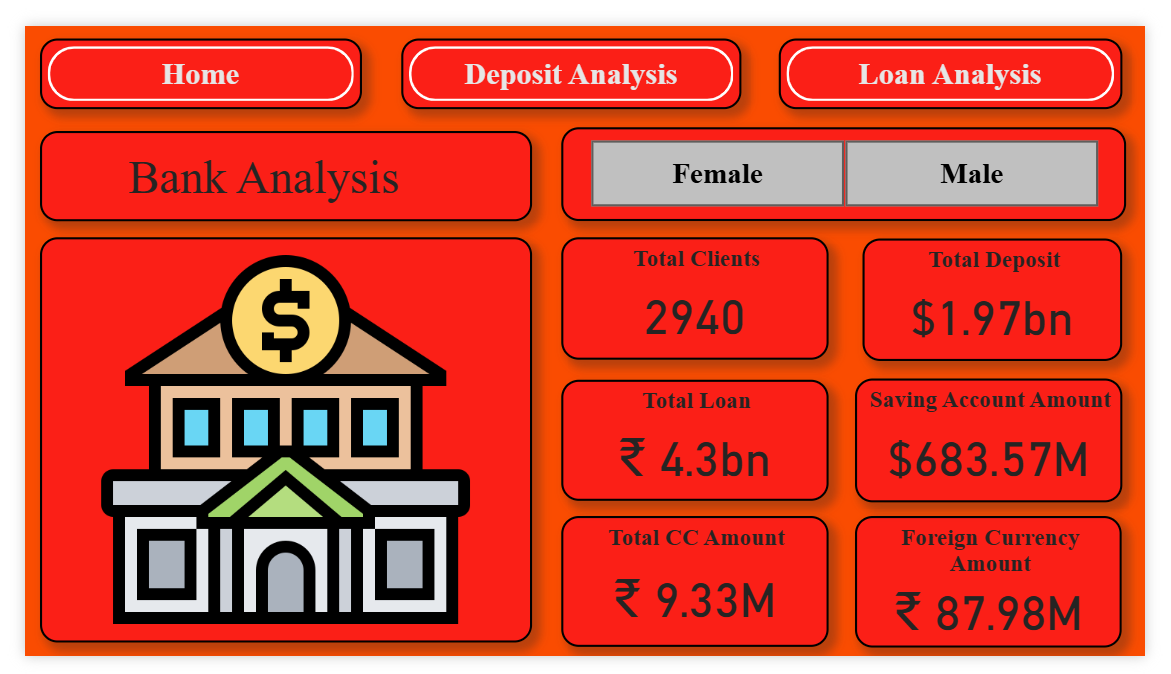

What the dashboard file says about the page in this screenshot:
{"tool":"powerbi","page":{"name":"Home","canvas":[1280,720],"ordinal":0},"visuals":[{"type":"textbox","title":"Bank ","box":[17,120.1,562.4,103.2],"z":0},{"type":"actionButton","title":"Home ","box":[17.2,14.7,368.1,81],"z":1000},{"type":"actionButton","title":"Home ","box":[861.4,14.7,392.6,81],"z":2000},{"type":"actionButton","title":"Home ","box":[429.5,14.7,389,81],"z":3000},{"type":"card","title":"Saving Account Amount","fields":{"Values":["Sum(Clients - Banking.Saving Accounts)"]},"box":[948.2,402.7,305.2,141.3],"z":5000},{"type":"card","title":"Total Deposit","fields":{"Values":["Sum(Clients - Banking.Bank Deposits)"]},"box":[956.7,243.1,296.8,139.9],"z":6000},{"type":"card","title":"Total Loan ","fields":{"Values":["Clients - Banking.Total Loan"]},"box":[613.3,404.2,305.2,138.5],"z":7000},{"type":"image","box":[17,241.6,562.4,463.5],"z":8000},{"type":"slicer","fields":{"Values":["Gender.Gender"]},"box":[613.3,115.9,645.8,107.4],"z":9000},{"type":"card","title":"Total Clients","fields":{"Values":["Count(Clients - Banking.Client ID)"]},"box":[613.3,241.6,305.2,139.9],"z":10000},{"type":"card","title":"Total  CC Amount","fields":{"Values":["Sum(Clients - Banking.Credit Card Balance)"]},"box":[613.3,559.6,305.2,149.8],"z":11000},{"type":"card","title":"Foreign Currency Amount","fields":{"Values":["Sum(Clients - Banking.Foreign Currency Account)"]},"box":[948,560,305,150],"z":12000}]}

Visuals, with their boxes in screenshot pixels (x1, y1, x2, y2), scaled from the page's 1280x720 canvas onto the 1171x674 screenshot:
"Bank " textbox: x1=16, y1=112, x2=530, y2=209
"Home " actionButton: x1=16, y1=14, x2=352, y2=90
"Home " actionButton: x1=788, y1=14, x2=1147, y2=90
"Home " actionButton: x1=393, y1=14, x2=749, y2=90
"Saving Account Amount" card: x1=867, y1=377, x2=1147, y2=509
"Total Deposit" card: x1=875, y1=228, x2=1147, y2=359
"Total Loan " card: x1=561, y1=378, x2=840, y2=508
image: x1=16, y1=226, x2=530, y2=660
slicer - Gender.Gender: x1=561, y1=108, x2=1152, y2=209
"Total Clients" card: x1=561, y1=226, x2=840, y2=357
"Total  CC Amount" card: x1=561, y1=524, x2=840, y2=664
"Foreign Currency Amount" card: x1=867, y1=524, x2=1146, y2=665
